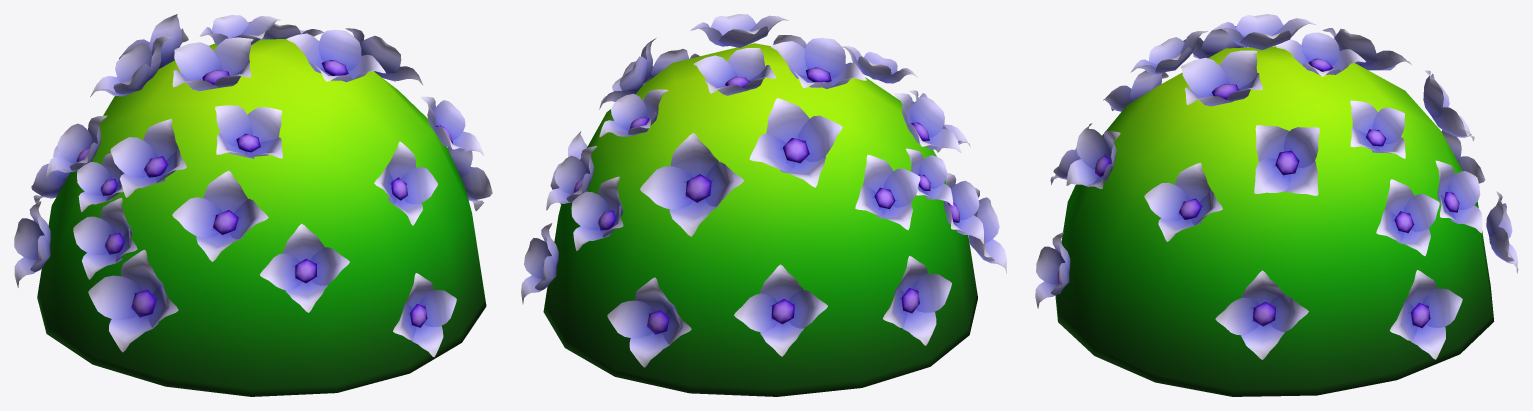
File: Bush2_LOD0.fbx
3 views of the same model, side by side, from view 1: azimuth 30°, elevation 25°; view 2: azimuth 150°, elevation 25°; view 3: azimuth 270°, elevation 25° (orthographic).
Visible parts, largest first — view 1: Bush2; view 2: Bush2; view 3: Bush2.
Boxes of the visible parts, x1=… form: Bush2: x1=14, y1=14, x2=492, y2=396; Bush2: x1=521, y1=14, x2=1006, y2=396; Bush2: x1=1035, y1=14, x2=1518, y2=396.
Size of the model in its own units: 121 by 73.76 by 123.
